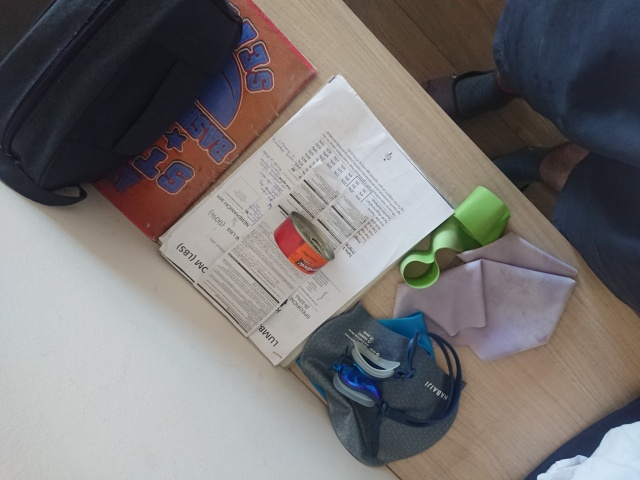Gavrilovic Pork Liver Pate 100g: (270, 208, 336, 276)
